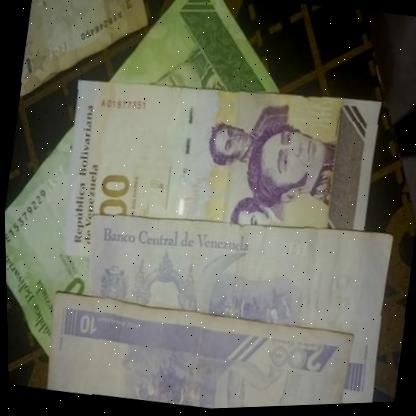vef_back: (71, 191, 403, 414), (38, 281, 351, 415)
vef_front: (0, 0, 300, 385), (50, 56, 385, 301), (15, 0, 154, 116)
